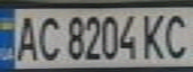0: (100, 11, 121, 61)
2: (81, 11, 103, 61)
4: (118, 11, 142, 61)
8: (63, 11, 84, 61)
A: (9, 11, 42, 62)
C: (160, 10, 193, 60), (33, 11, 63, 62)
K: (139, 10, 172, 61)
